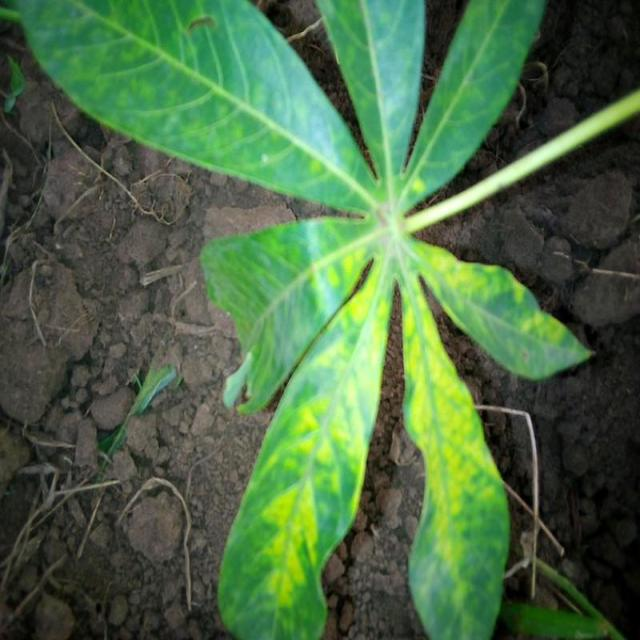cassava leaf: (11, 0, 614, 639), (14, 0, 379, 214)
